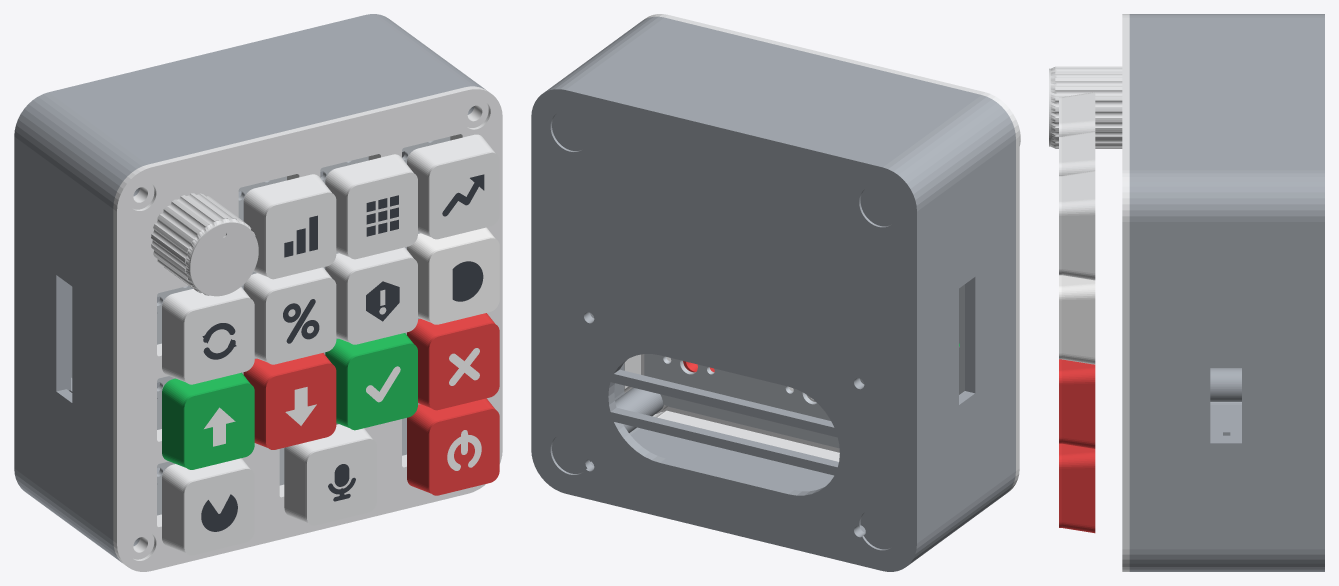
File: orchestrator-pad-assembled.glb
The picture shows the model from 3 angles, left to right: view 1: azimuth 30°, elevation 25°; view 2: azimuth 150°, elevation 25°; view 3: azimuth 270°, elevation 25°; orthographic projection.
Visible parts, largest first — view 1: tray, plate, knob, rebalance, momentum, buy, dca, mic, kill, grid, portfolio, yes (+13 smaller); view 2: tray, switch-deck, plate; view 3: tray, plate, knob, momentum, base, kill, no, dca, grid.
Boxes of the visible parts, x1=… form: tray: x1=14, y1=14, x2=486, y2=562; plate: x1=113, y1=86, x2=502, y2=571; knob: x1=151, y1=193, x2=258, y2=296; rebalance: x1=162, y1=287, x2=254, y2=384; momentum: x1=407, y1=134, x2=499, y2=239; buy: x1=162, y1=372, x2=254, y2=469; dca: x1=243, y1=174, x2=336, y2=279; mic: x1=284, y1=424, x2=376, y2=525; kill: x1=407, y1=398, x2=499, y2=495; grid: x1=325, y1=154, x2=417, y2=259; portfolio: x1=162, y1=458, x2=254, y2=555; yes: x1=325, y1=333, x2=417, y2=430; tray: x1=531, y1=16, x2=1015, y2=571; switch-deck: x1=644, y1=284, x2=964, y2=448; plate: x1=624, y1=14, x2=1019, y2=492; tray: x1=1129, y1=14, x2=1324, y2=571; plate: x1=1122, y1=14, x2=1129, y2=571; knob: x1=1049, y1=66, x2=1122, y2=148; momentum: x1=1059, y1=170, x2=1095, y2=280; base: x1=1059, y1=275, x2=1095, y2=364; kill: x1=1059, y1=443, x2=1095, y2=533; no: x1=1059, y1=359, x2=1095, y2=448; dca: x1=1059, y1=92, x2=1095, y2=136; grid: x1=1059, y1=131, x2=1095, y2=175.
Size of the model in its own units: 90 by 90 by 56.5.
